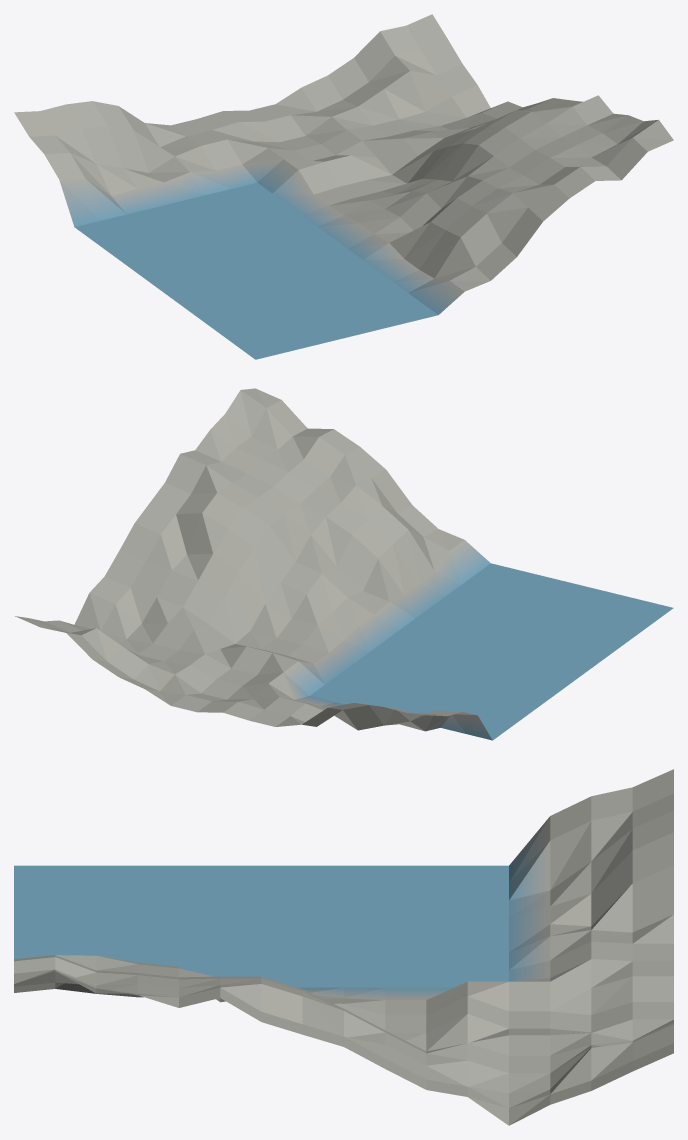
3 views of the same model, one above another, from view 1: azimuth 30°, elevation 25°; view 2: azimuth 150°, elevation 25°; view 3: azimuth 270°, elevation 25° (orthographic). The views are drawn at different scales.
Bounding box in the file's own units: 32 × 9.28 × 32.
